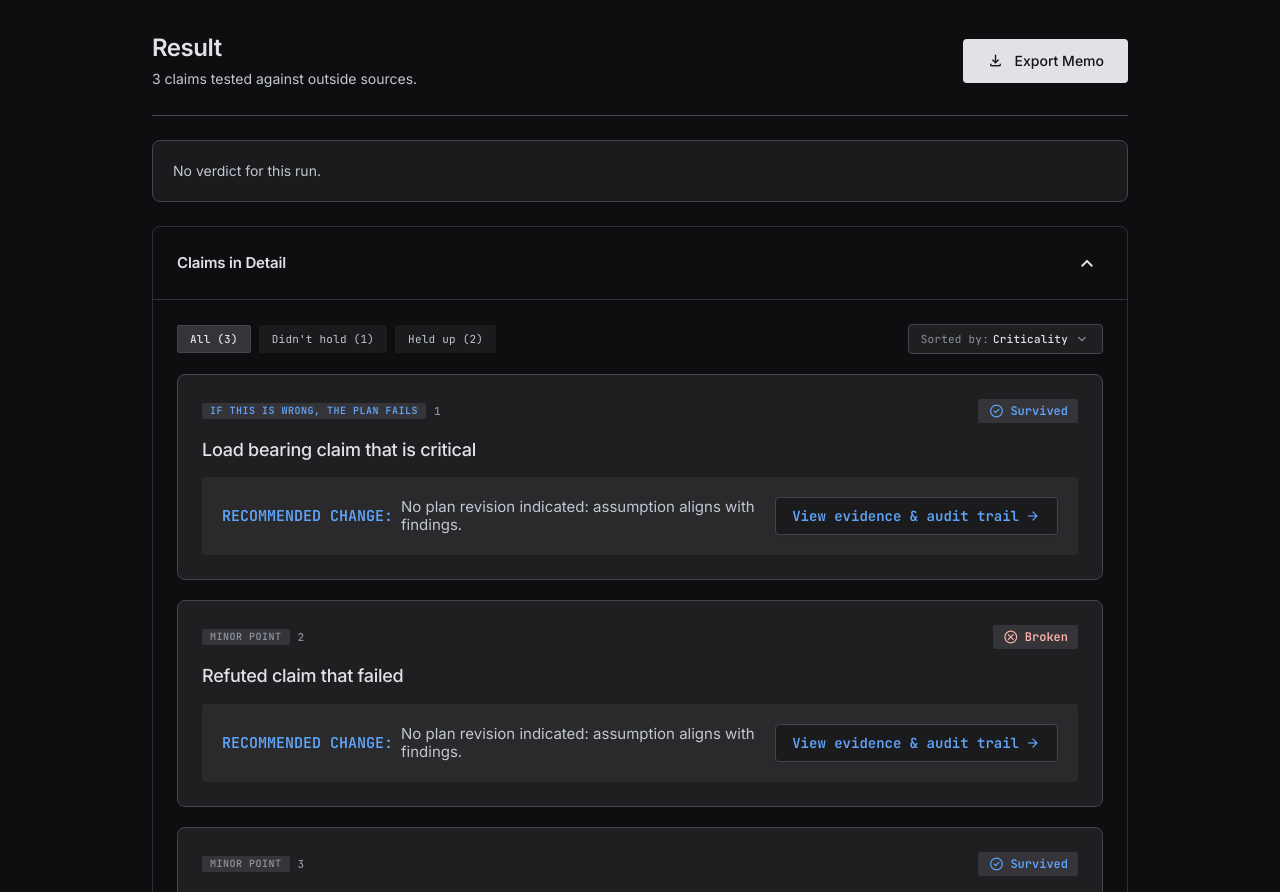
Screen Components › DashboardScreen › renders interactive Sorted by dropdown menu and reorders claims on selection
Expected: the text "Criticality" is shown, [993,332,1068,346]
Step 1. Click the button with aria-label "sort claims" → point(1005, 339), box [908,324,1103,354]
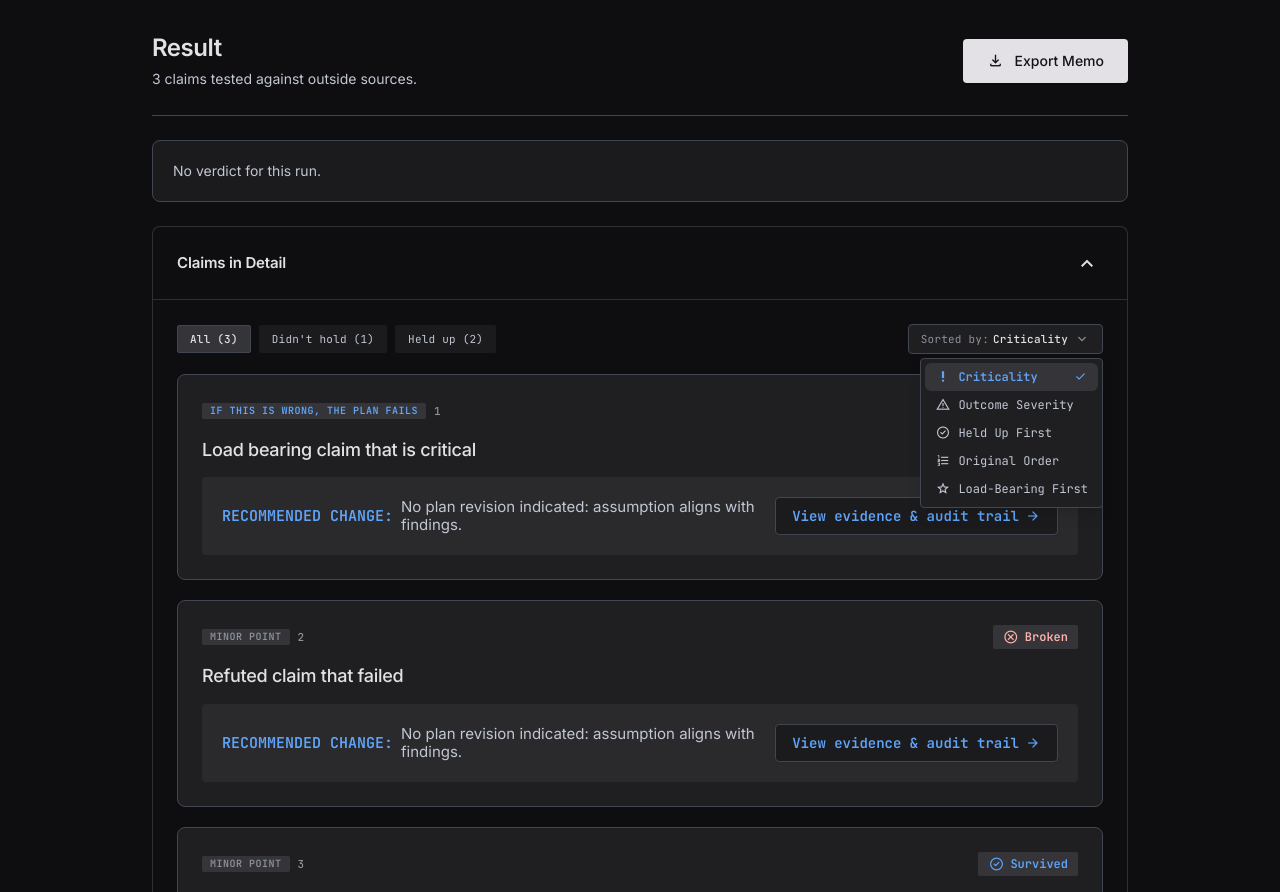
Expected: the menu is shown, [920,358,1103,508]
Step 2. Click the menu item "Outcome Severity" → point(1012, 405), box [925,391,1098,419]
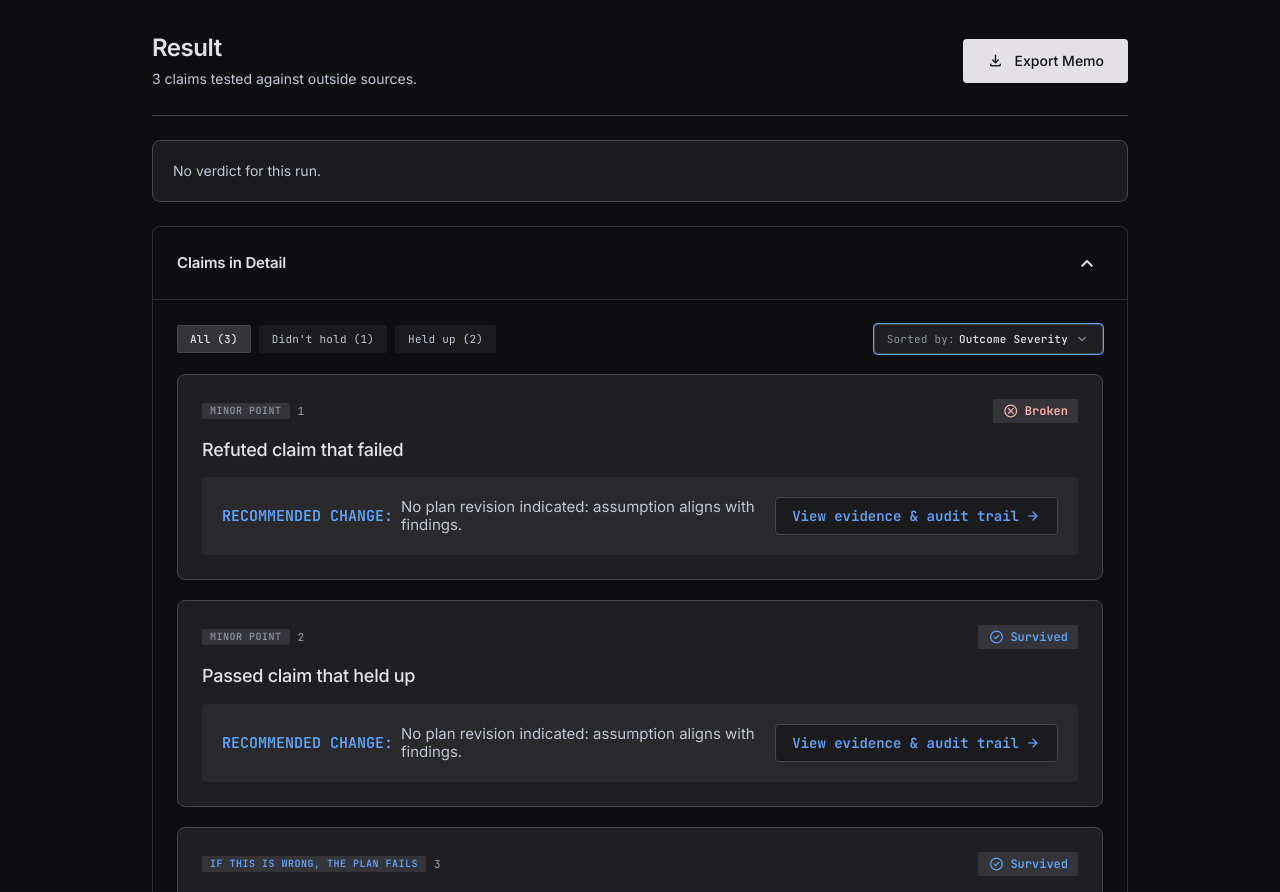
Expected: the heading "Refuted claim that failed" is shown, [202,439,404,460]
Expected: the menu is gone
Expected: the button with aria-label "sort claims" shows "Outcome Severity"
Step 3. Click the button with aria-label "sort claims" → point(988, 339), box [874,324,1103,354]
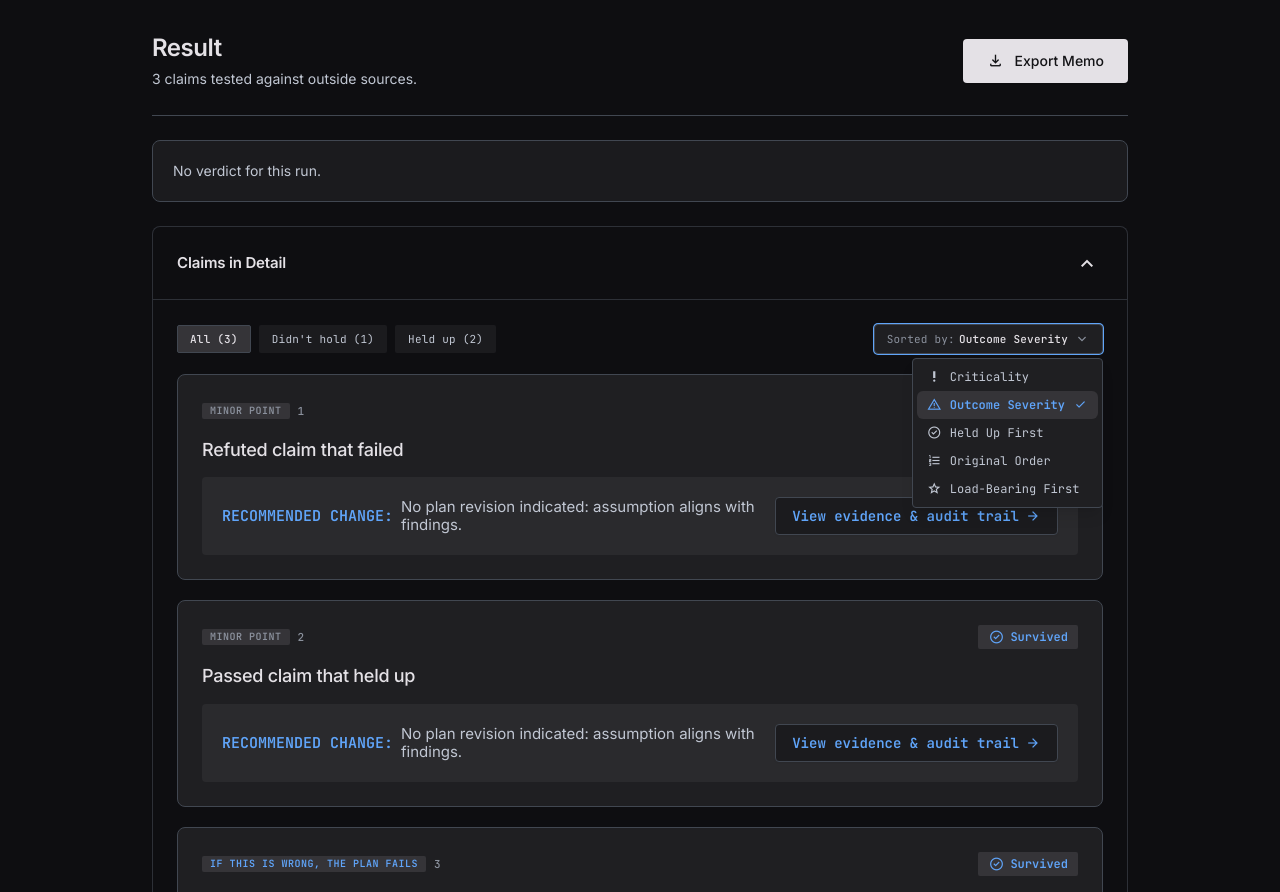
Step 4. Click the menu item "Held Up First" → point(1007, 433), box [917,419,1098,447]
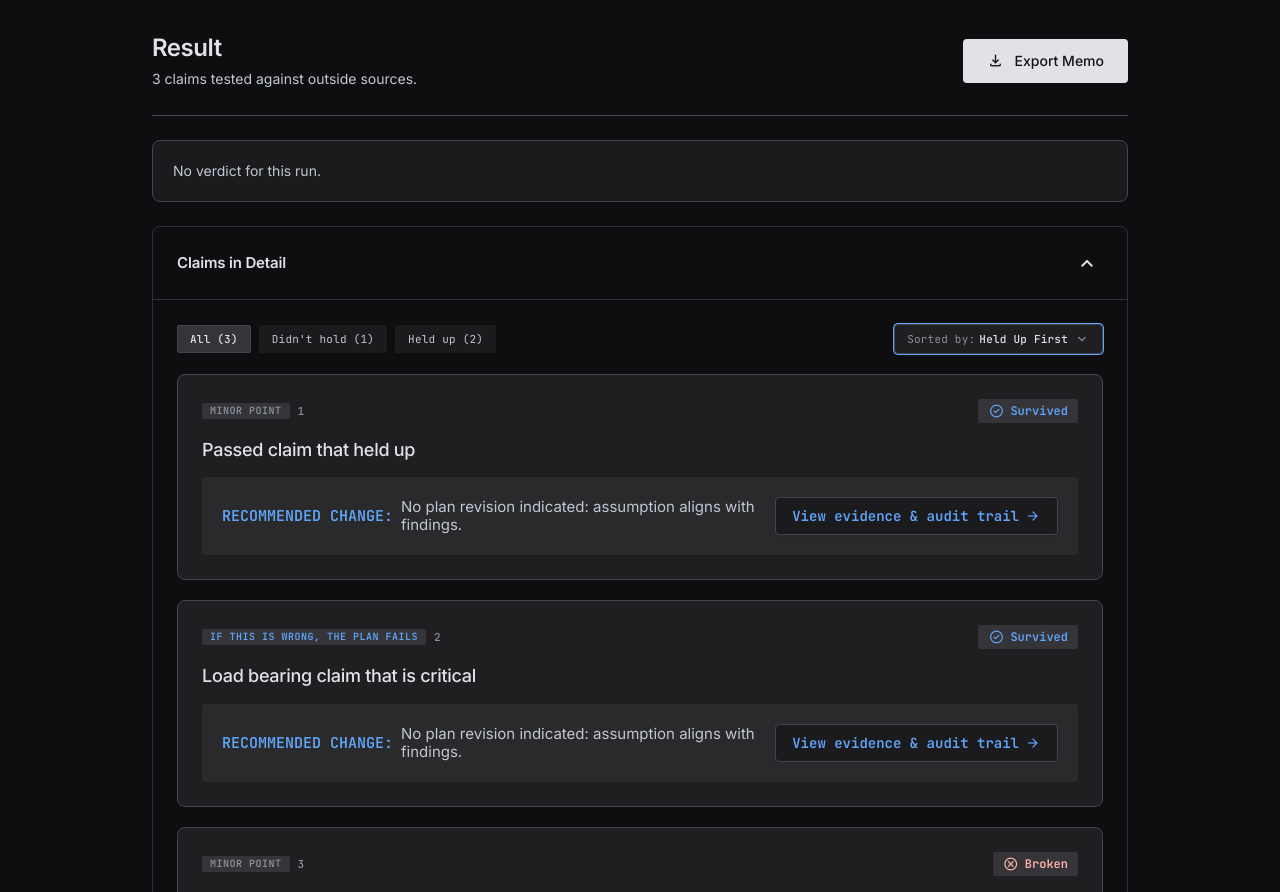
Expected: the heading "Passed claim that held up" is shown, [202,439,415,460]
Expected: the button with aria-label "sort claims" shows "Held Up First", [894,324,1103,354]
